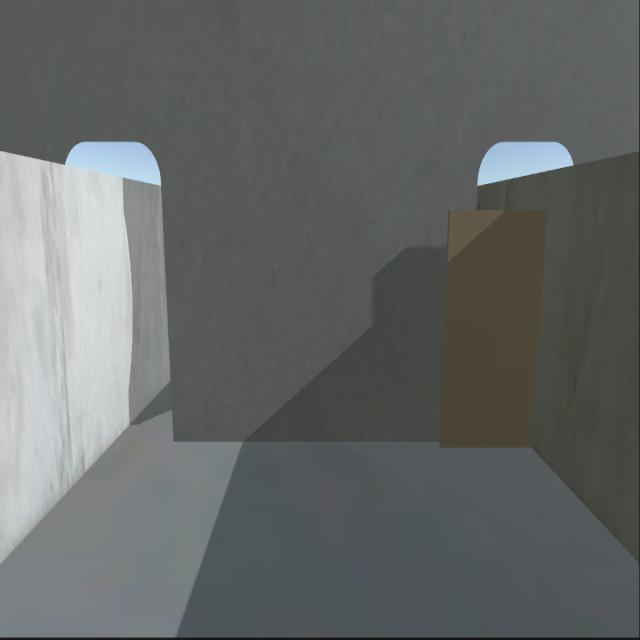plate_behind: (174, 437, 532, 448)
